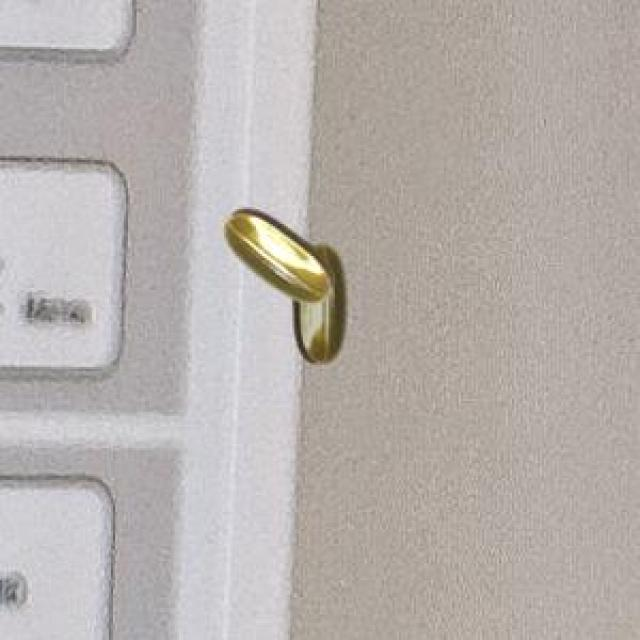Fish_Oil: (211, 190, 358, 372)
